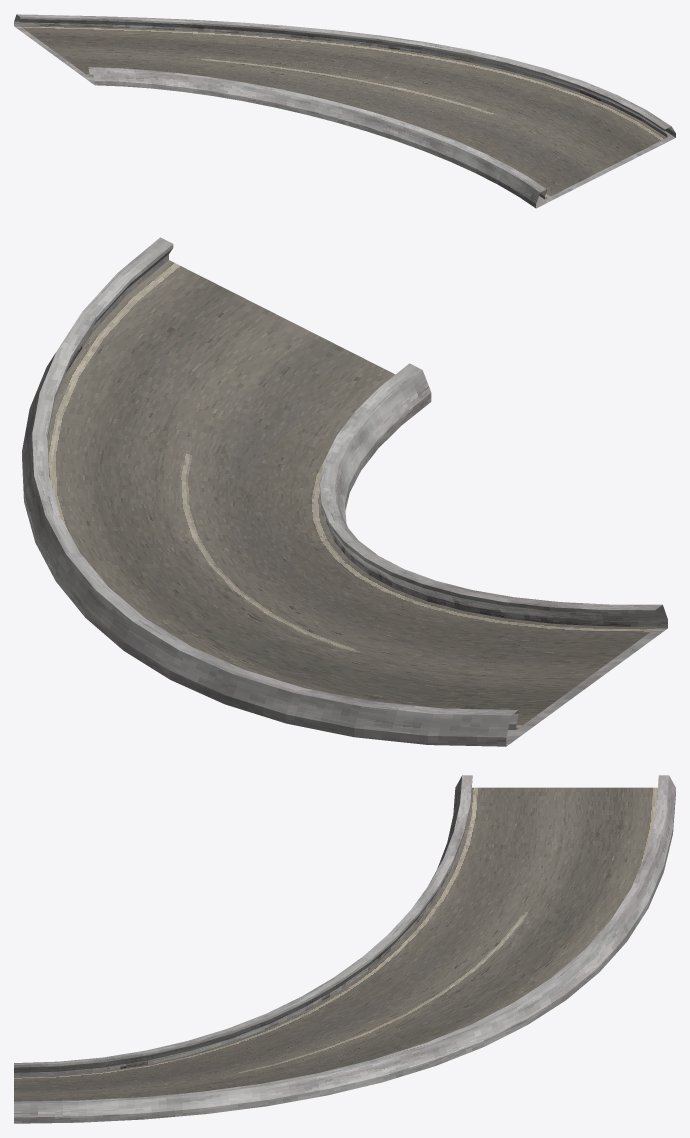
Rendered from turn-left3x3.glb.
3 views of the same model, one above another, from view 1: azimuth 30°, elevation 25°; view 2: azimuth 150°, elevation 25°; view 3: azimuth 270°, elevation 25° (orthographic). The views are drawn at different scales.
Parts seen in each view (by area): view 1: road-Turn-HalfBankedLeft-BiSlopeUp-Up2-Left-Size3; view 2: road-Turn-HalfBankedLeft-BiSlopeUp-Up2-Left-Size3; view 3: road-Turn-HalfBankedLeft-BiSlopeUp-Up2-Left-Size3.
Part boxes in pixels (left/top/right/bottom): road-Turn-HalfBankedLeft-BiSlopeUp-Up2-Left-Size3: left=14, top=14, right=675, bottom=208; road-Turn-HalfBankedLeft-BiSlopeUp-Up2-Left-Size3: left=22, top=237, right=667, bottom=746; road-Turn-HalfBankedLeft-BiSlopeUp-Up2-Left-Size3: left=14, top=775, right=675, bottom=1123.
Bounding box in the file's own units: 3 × 0.5937 × 3.
2 materials, 2 textured.
